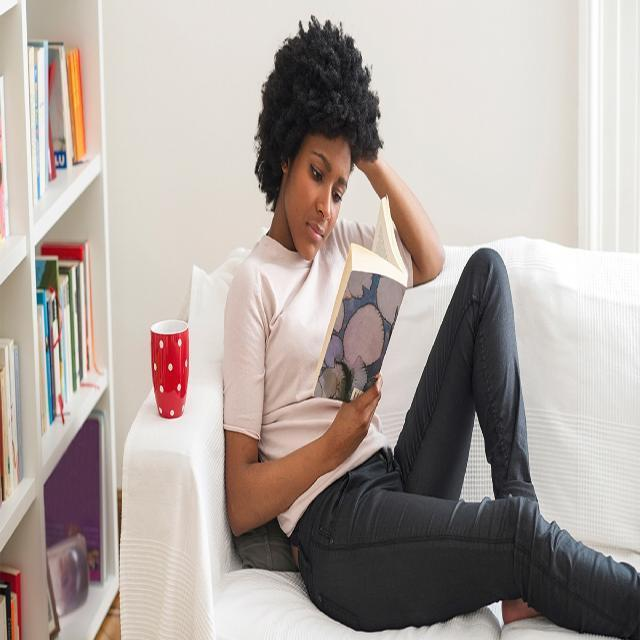sitting: (208, 12, 640, 636)
